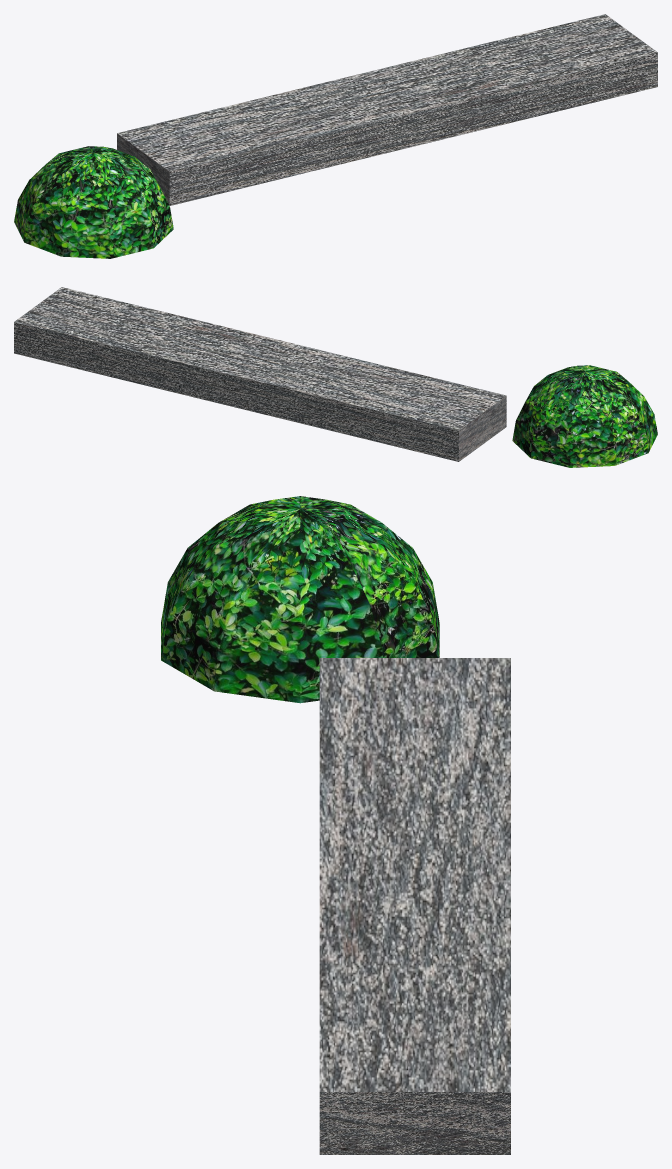
Rendered from Roca3.obj.
The picture shows the model from 3 angles, top to bottom: view 1: azimuth 30°, elevation 25°; view 2: azimuth 150°, elevation 25°; view 3: azimuth 270°, elevation 25°; orthographic projection. The views are drawn at different scales.
Visible parts, largest first — view 1: Roca5, Cesped1; view 2: Roca5, Cesped1; view 3: Roca5, Cesped1.
Part boxes in pixels (bbox=[...]): Roca5: bbox=[117, 14, 657, 205]; Cesped1: bbox=[14, 146, 173, 258]; Roca5: bbox=[14, 287, 506, 461]; Cesped1: bbox=[512, 365, 657, 467]; Roca5: bbox=[319, 658, 510, 1154]; Cesped1: bbox=[161, 496, 439, 703].
Size of the model in its own units: 59.59 by 6.86 by 15.51.
2 materials, 2 textured.
